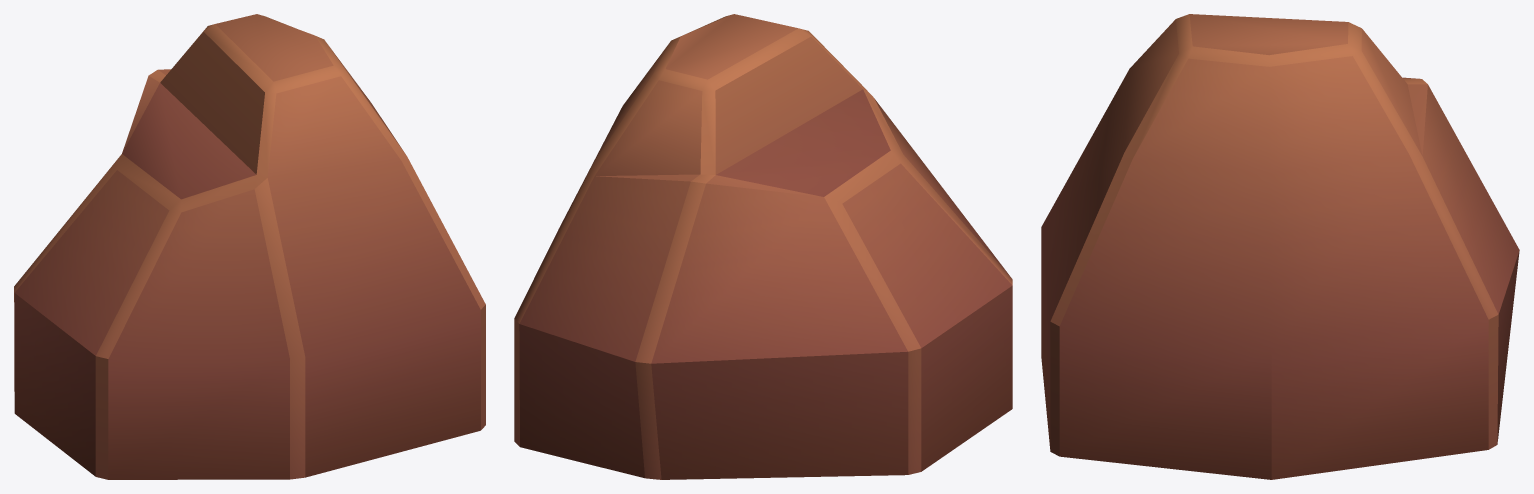
Rendered from Rock-2-3.fbx.
The picture shows the model from 3 angles, left to right: view 1: azimuth 30°, elevation 25°; view 2: azimuth 150°, elevation 25°; view 3: azimuth 270°, elevation 25°; orthographic projection. The views are drawn at different scales.
Parts seen in each view (by area): view 1: Rock-2-3; view 2: Rock-2-3; view 3: Rock-2-3.
Boxes of the visible parts, x1=… form: Rock-2-3: x1=14, y1=14, x2=485, y2=479; Rock-2-3: x1=514, y1=14, x2=1012, y2=479; Rock-2-3: x1=1041, y1=14, x2=1519, y2=479.
Bounding box in the file's own units: 218 × 180 × 215.
